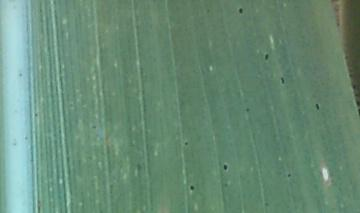tarspot: (222, 160, 231, 172), (286, 171, 295, 182), (279, 74, 287, 85), (264, 48, 270, 61), (315, 101, 322, 111), (91, 121, 98, 131), (206, 5, 212, 16), (190, 183, 196, 193), (183, 139, 191, 146), (238, 6, 243, 15), (245, 106, 251, 112), (266, 202, 271, 207)
